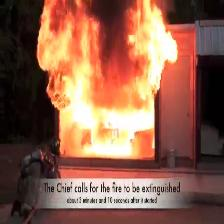fire: (37, 0, 178, 155)
